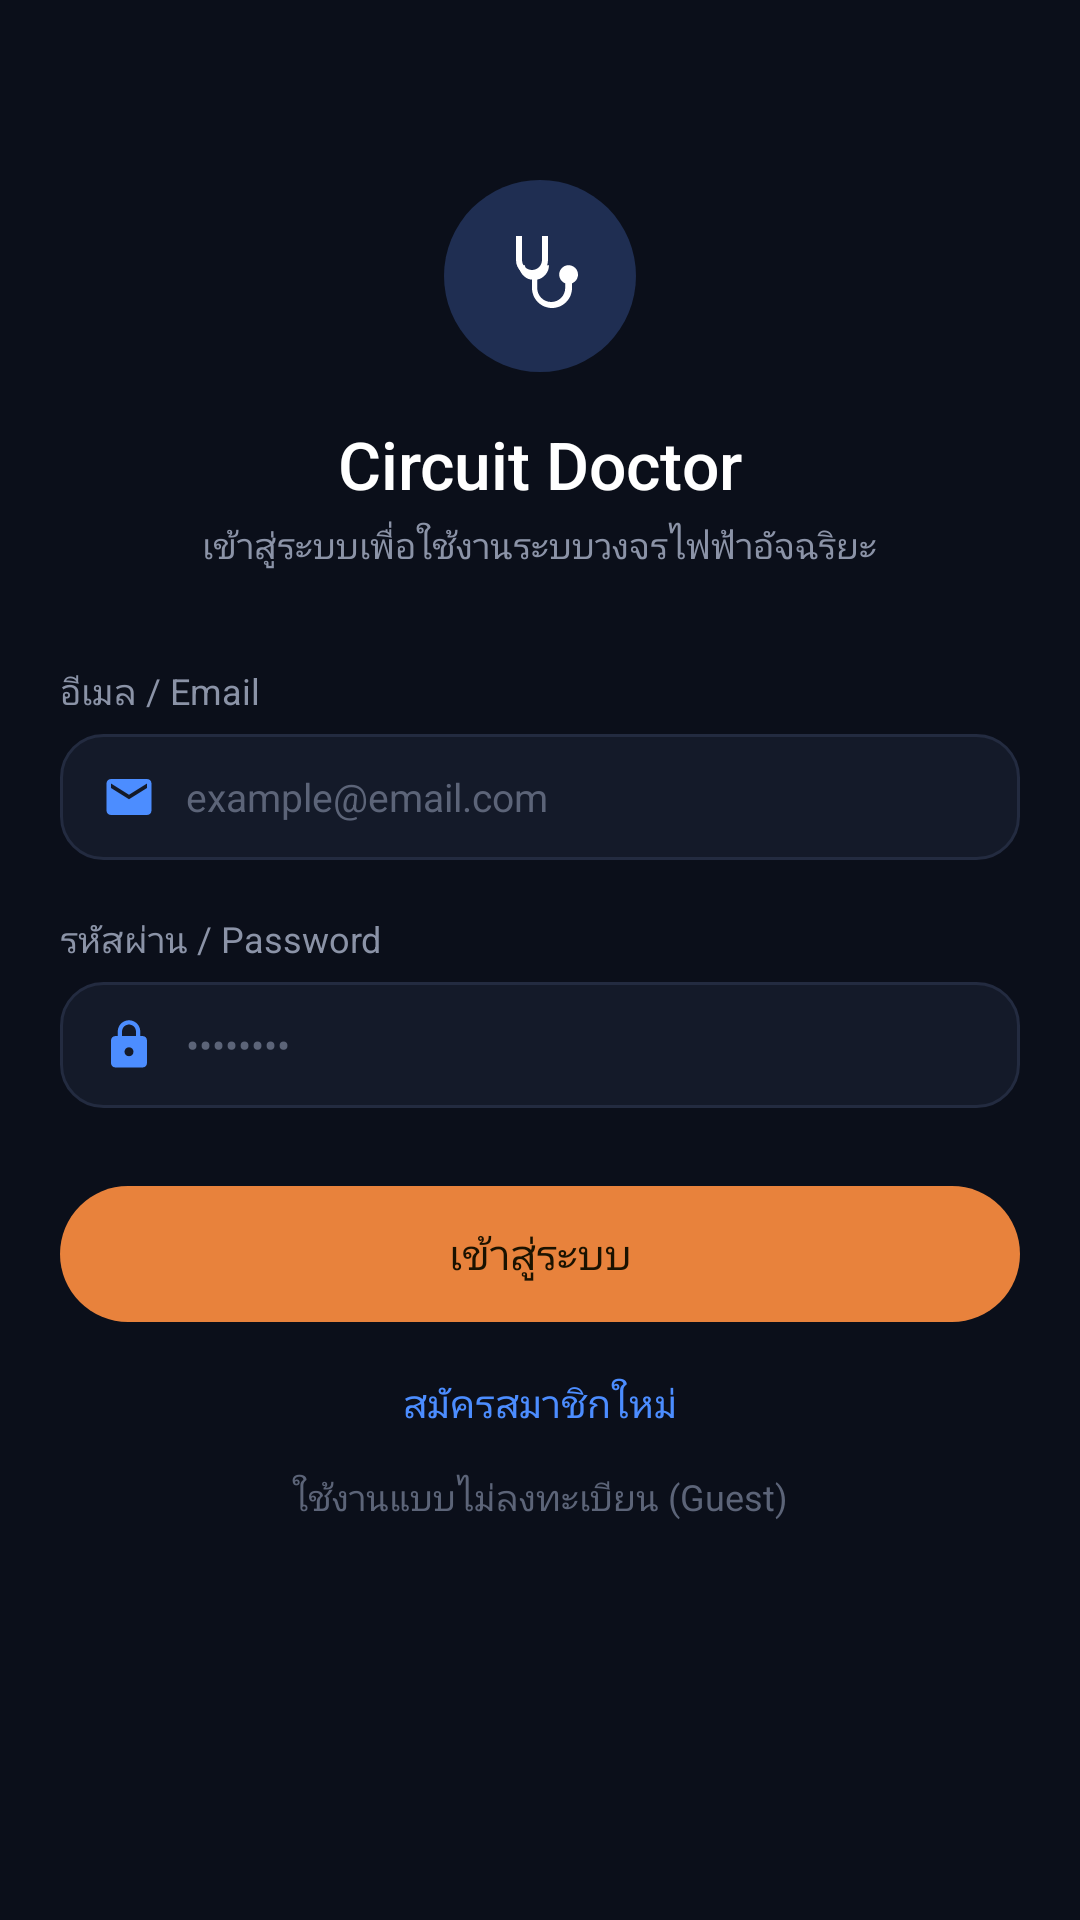

Screen size 1080x1920. Icon name, then its box in pixels as [left=x1, top=y1, right=x2, bottom=y2]:
lock: [left=111, top=1020, right=147, bottom=1068]
stethoscope: [left=444, top=180, right=636, bottom=372]
